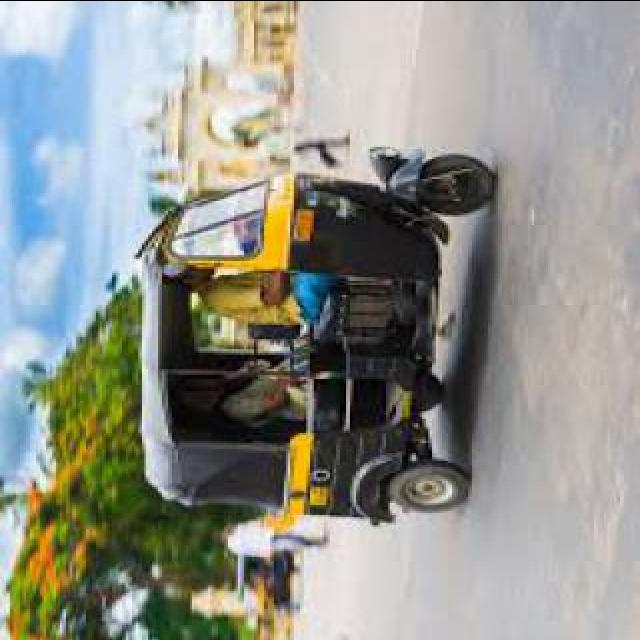Autorickshaw: (128, 136, 520, 522)
